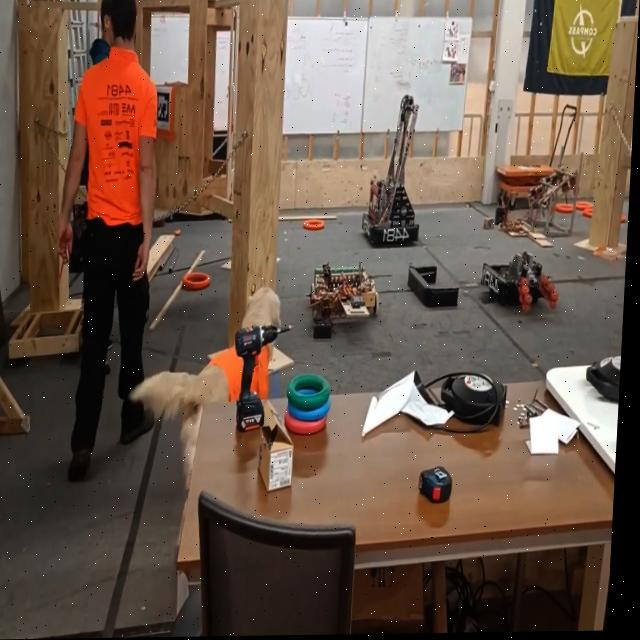note: (184, 271, 215, 295), (304, 217, 328, 233), (554, 205, 577, 216), (577, 201, 594, 213)
robot: (364, 93, 428, 246), (482, 249, 565, 319)
